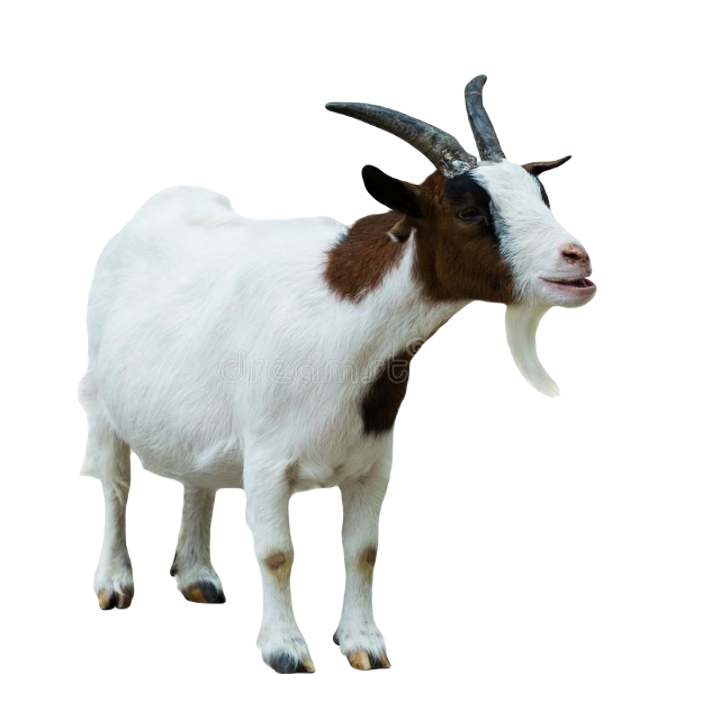Goat: (80, 73, 595, 675)
